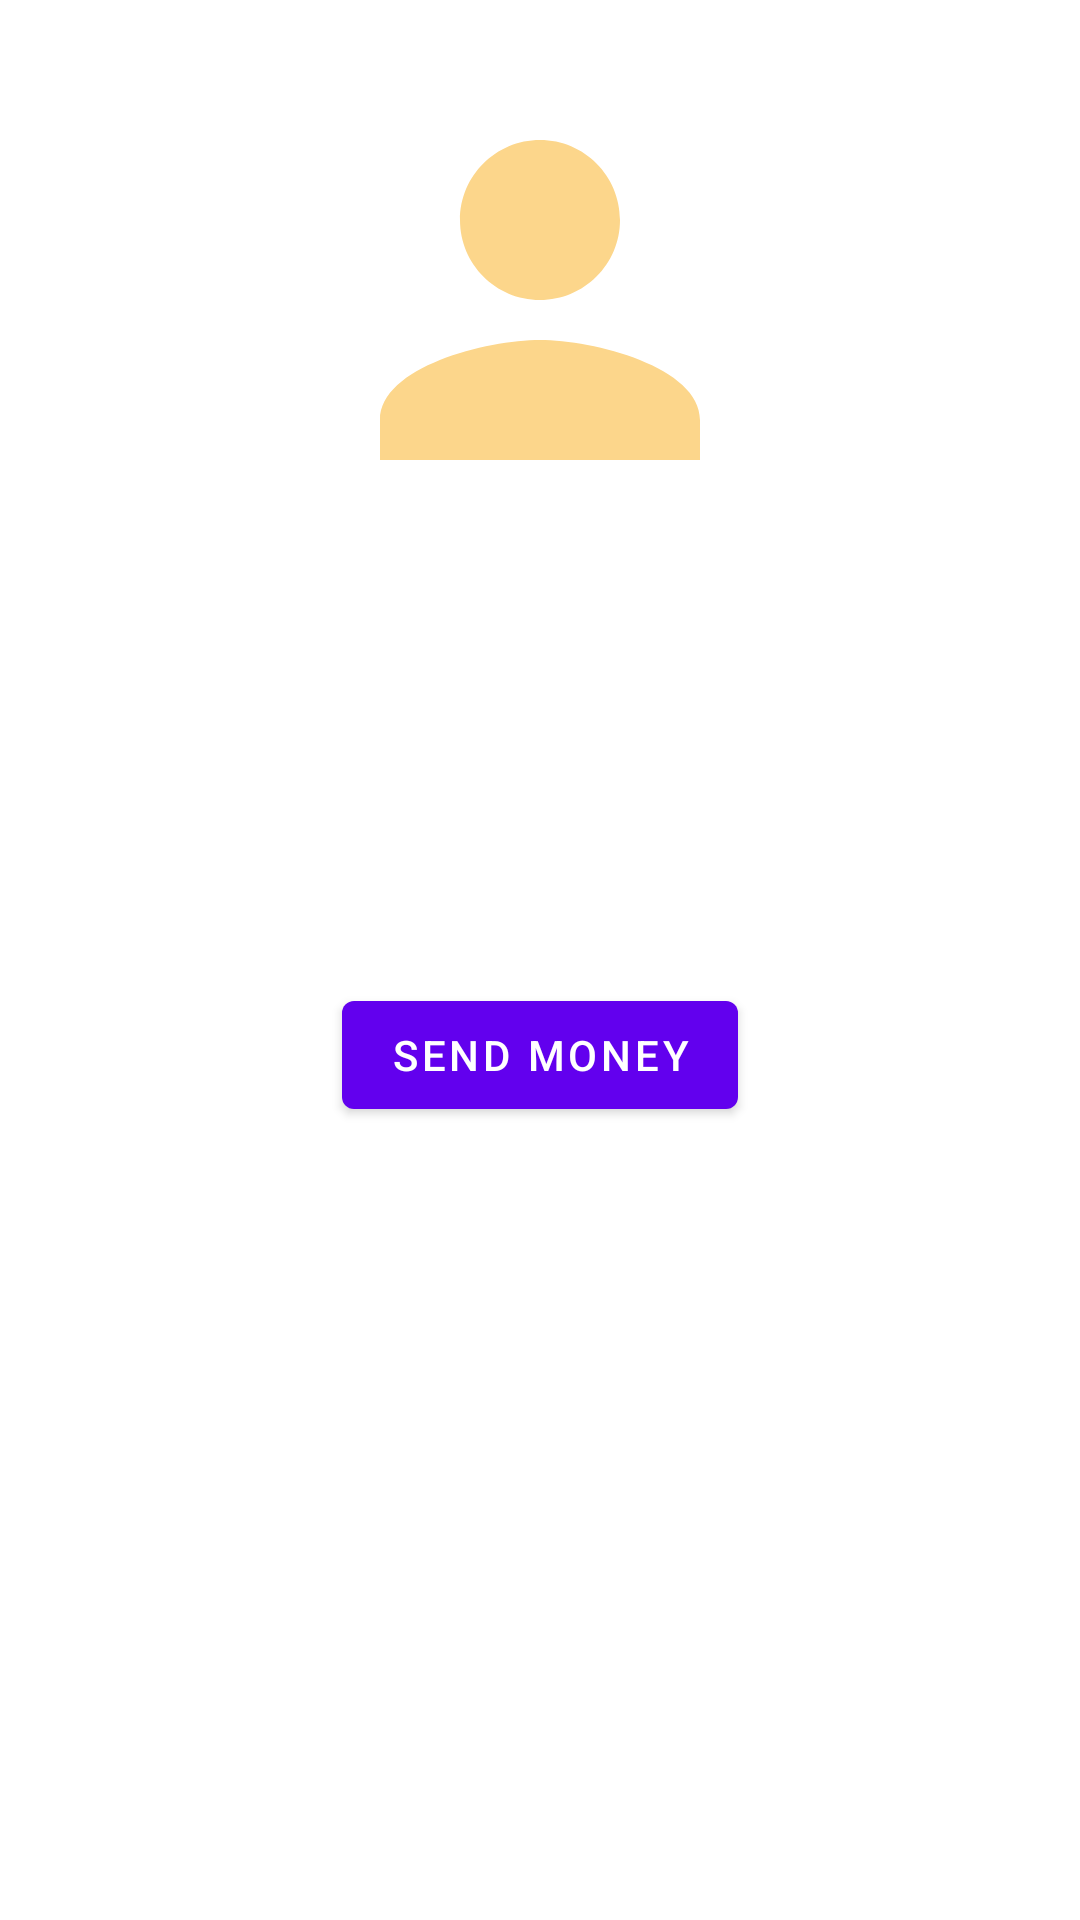

Icon click points for this 1080*1920 phone screenshot, format (x,y):
User profile: (540,300)
